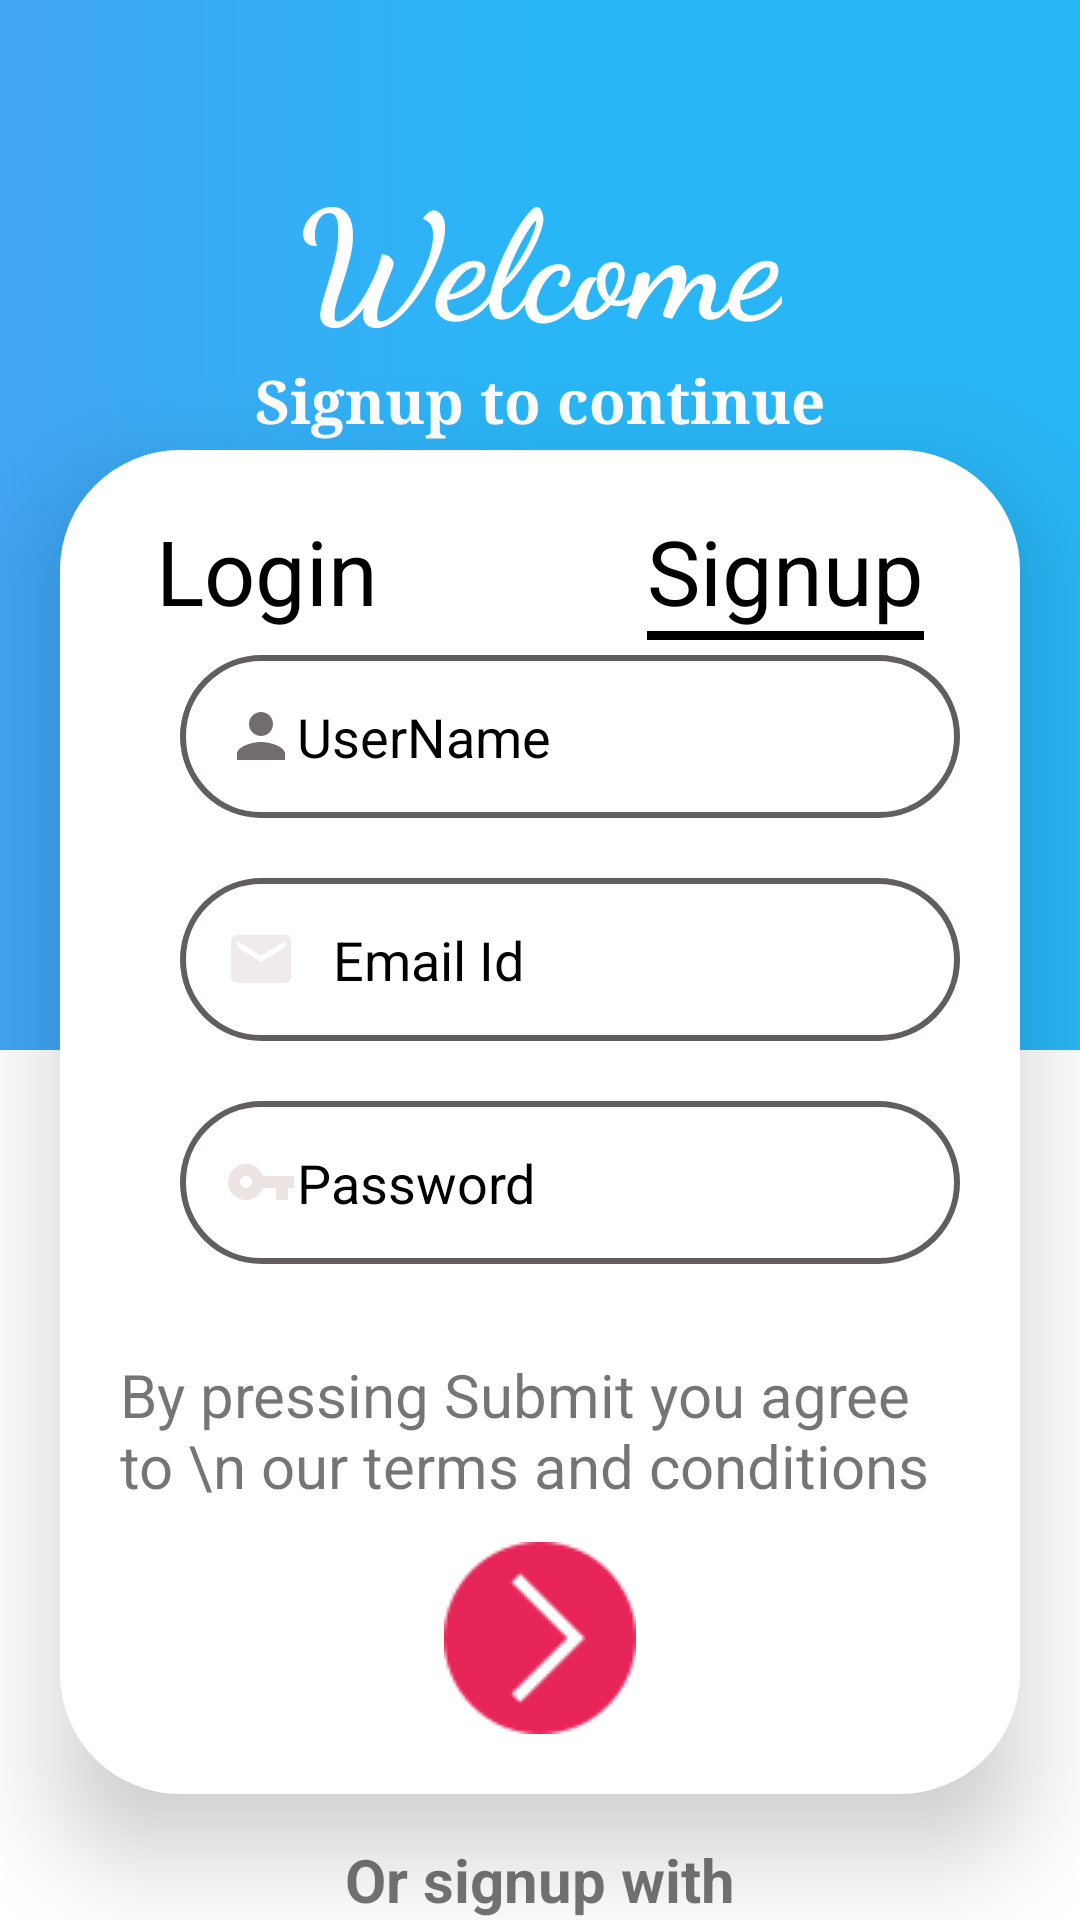

Locate icon controls on the screen. Image size 1080px x 1920px, boxes as Rect(x1, y1, x2, y2).
arrow: Rect(444, 1542, 636, 1734)
